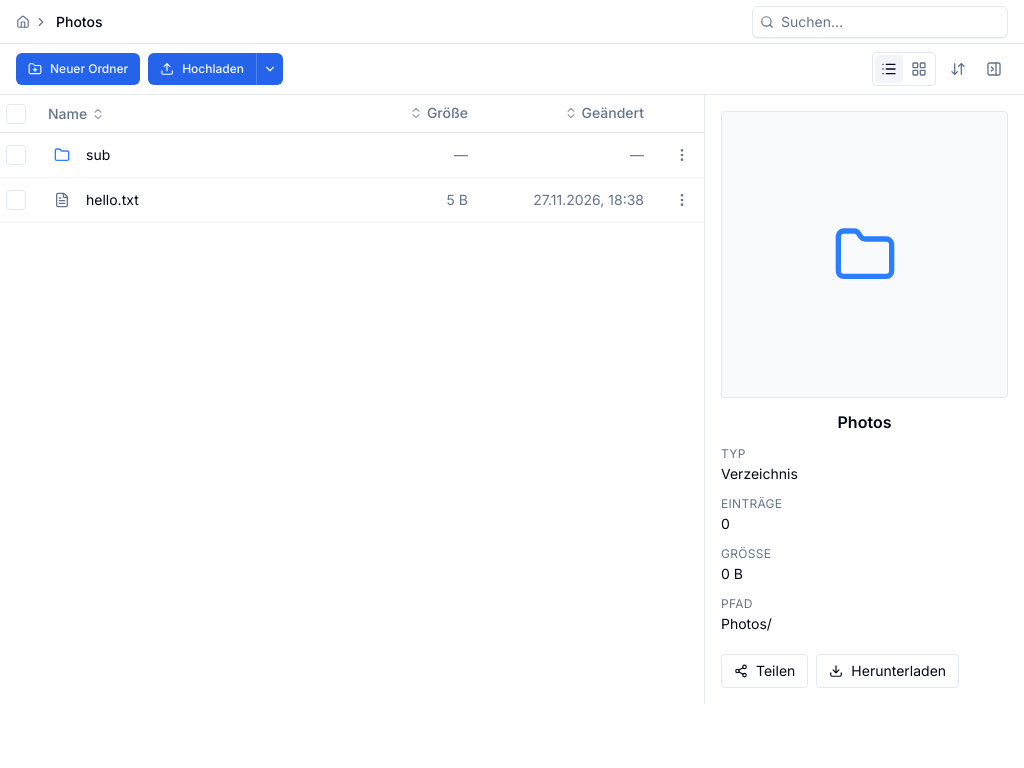
FilesPage — Ansichten-Switcher › Klick auf Raster blendet Tabelle aus und zeigt Grid
Expected: the text "hello.txt" is shown, [86, 190, 139, 210]
Click the button named "Raster".
click(919, 69)  # box [905, 55, 933, 83]
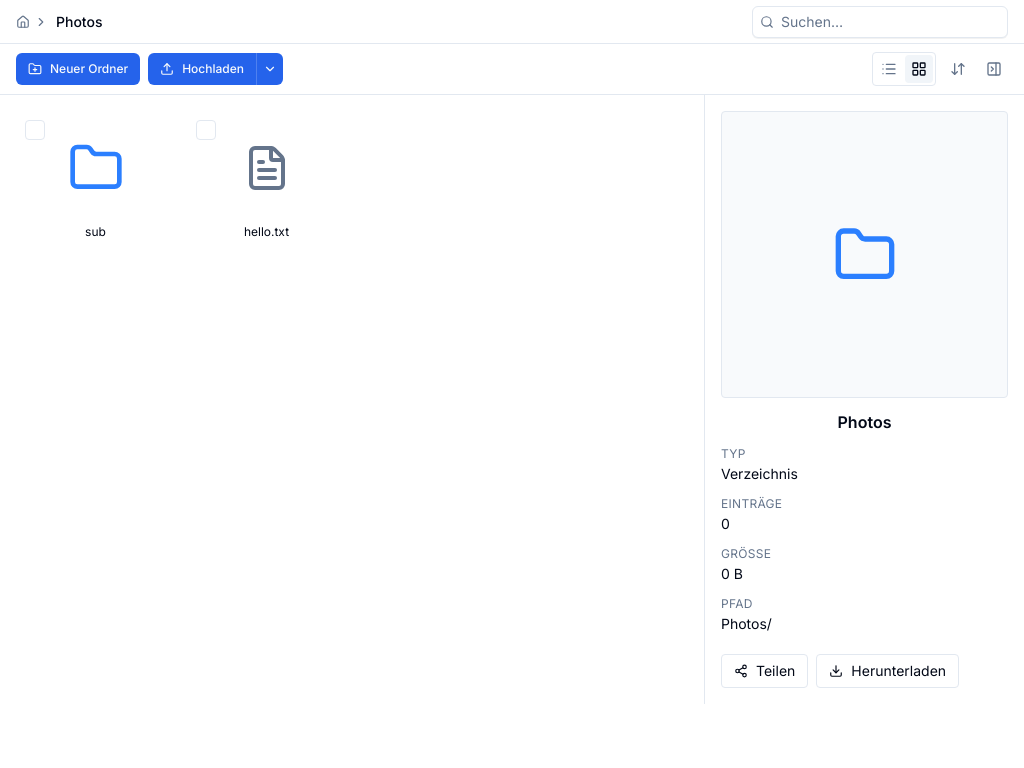
Expected: the table is gone
Expected: the element with test id "files-grid" is shown, [16, 111, 346, 248]
